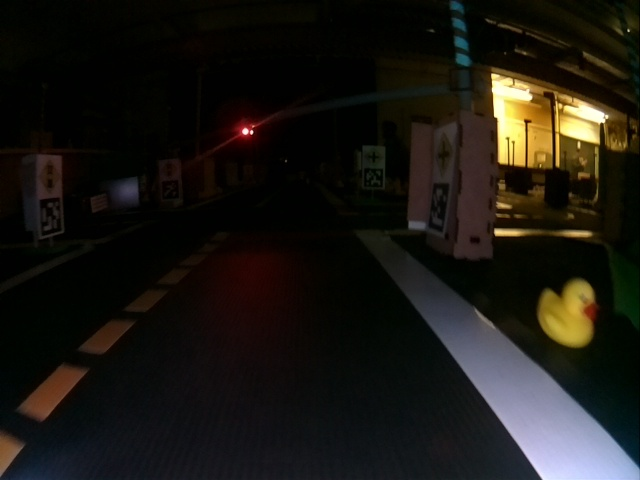Duckie: (538, 279, 595, 348)
Intersection sign: (435, 130, 456, 174), (363, 149, 383, 165)
QR code: (39, 197, 62, 235), (430, 182, 447, 231), (363, 167, 384, 187), (161, 181, 180, 198)
Signal sign: (40, 158, 61, 191), (160, 160, 177, 179)
